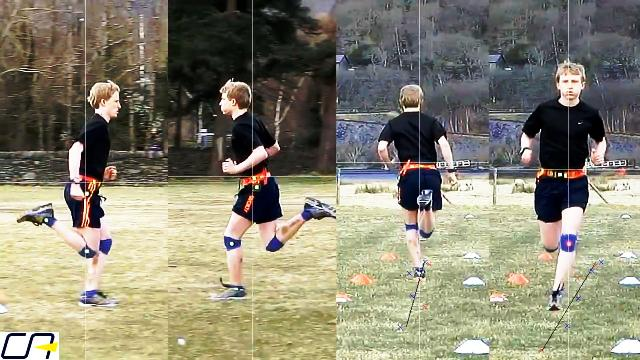berlari: (203, 77, 335, 295), (9, 76, 122, 314), (511, 57, 611, 312), (372, 77, 458, 286)
